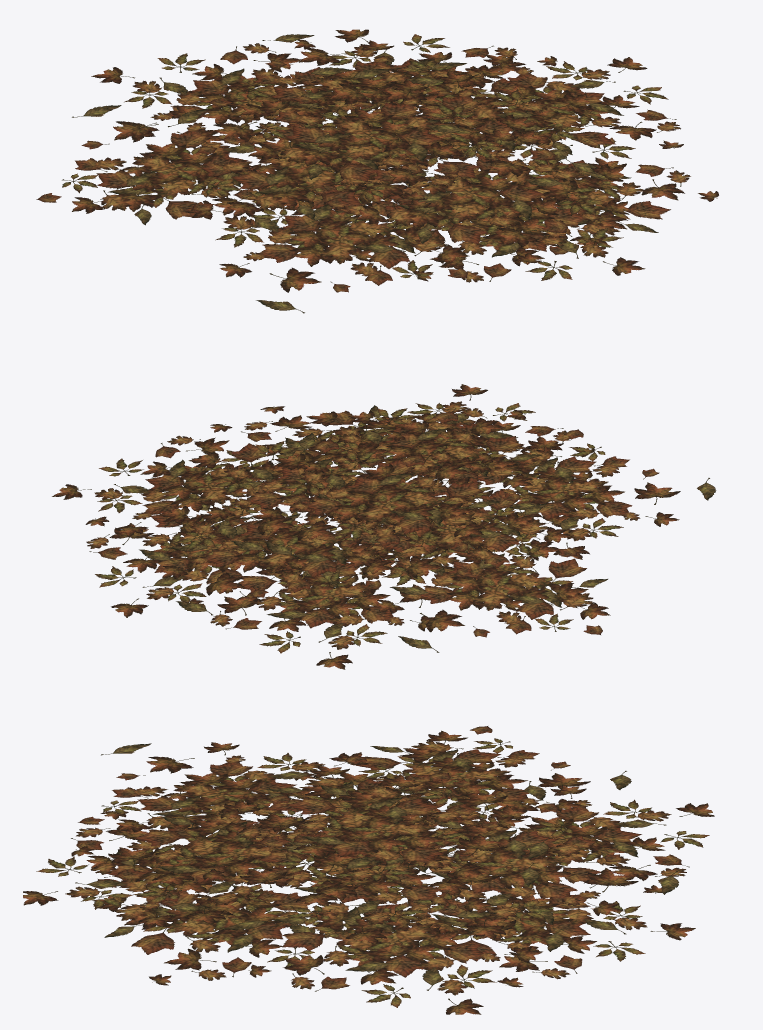
File: leaves.gltf
The picture shows the model from 3 angles, top to bottom: view 1: azimuth 30°, elevation 25°; view 2: azimuth 150°, elevation 25°; view 3: azimuth 270°, elevation 25°; orthographic projection. The views are drawn at different scales.
Visible parts, largest first — view 1: leaves_2_StaticMeshComponent0; view 2: leaves_2_StaticMeshComponent0; view 3: leaves_2_StaticMeshComponent0.
Part boxes in pixels (x1,y1,x2,y2): leaves_2_StaticMeshComponent0: (36, 29, 718, 313); leaves_2_StaticMeshComponent0: (52, 384, 716, 669); leaves_2_StaticMeshComponent0: (23, 726, 714, 1014).
Size of the model in its own units: 1.77 by 0.1063 by 1.77.
Materials: 1 (1 with a texture image).
